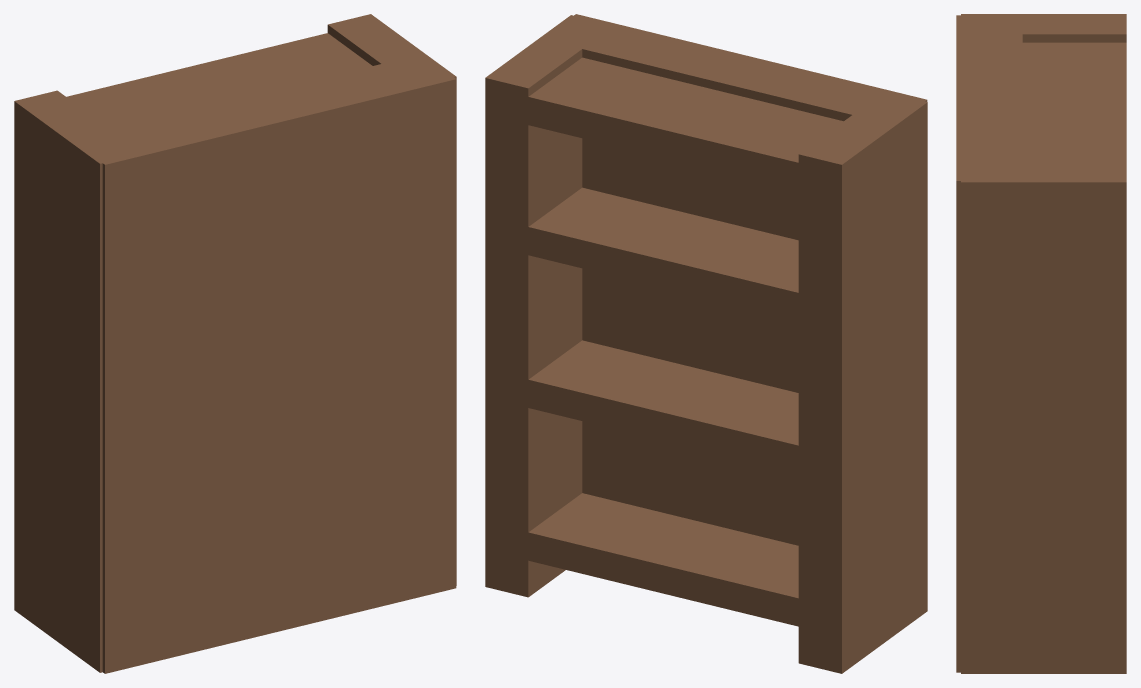
Rendered from bookcase.glb.
3 views of the same model, side by side, from view 1: azimuth 30°, elevation 25°; view 2: azimuth 150°, elevation 25°; view 3: azimuth 270°, elevation 25° (orthographic). The views are drawn at different scales.
Parts seen in each view (by area): view 1: bookcase; view 2: bookcase; view 3: bookcase.
Boxes of the visible parts, x1=… form: bookcase: x1=14, y1=14, x2=456, y2=673; bookcase: x1=485, y1=14, x2=927, y2=673; bookcase: x1=956, y1=14, x2=1126, y2=673.
Bounding box in the file's own units: 1.32 × 1.8 × 0.565.
